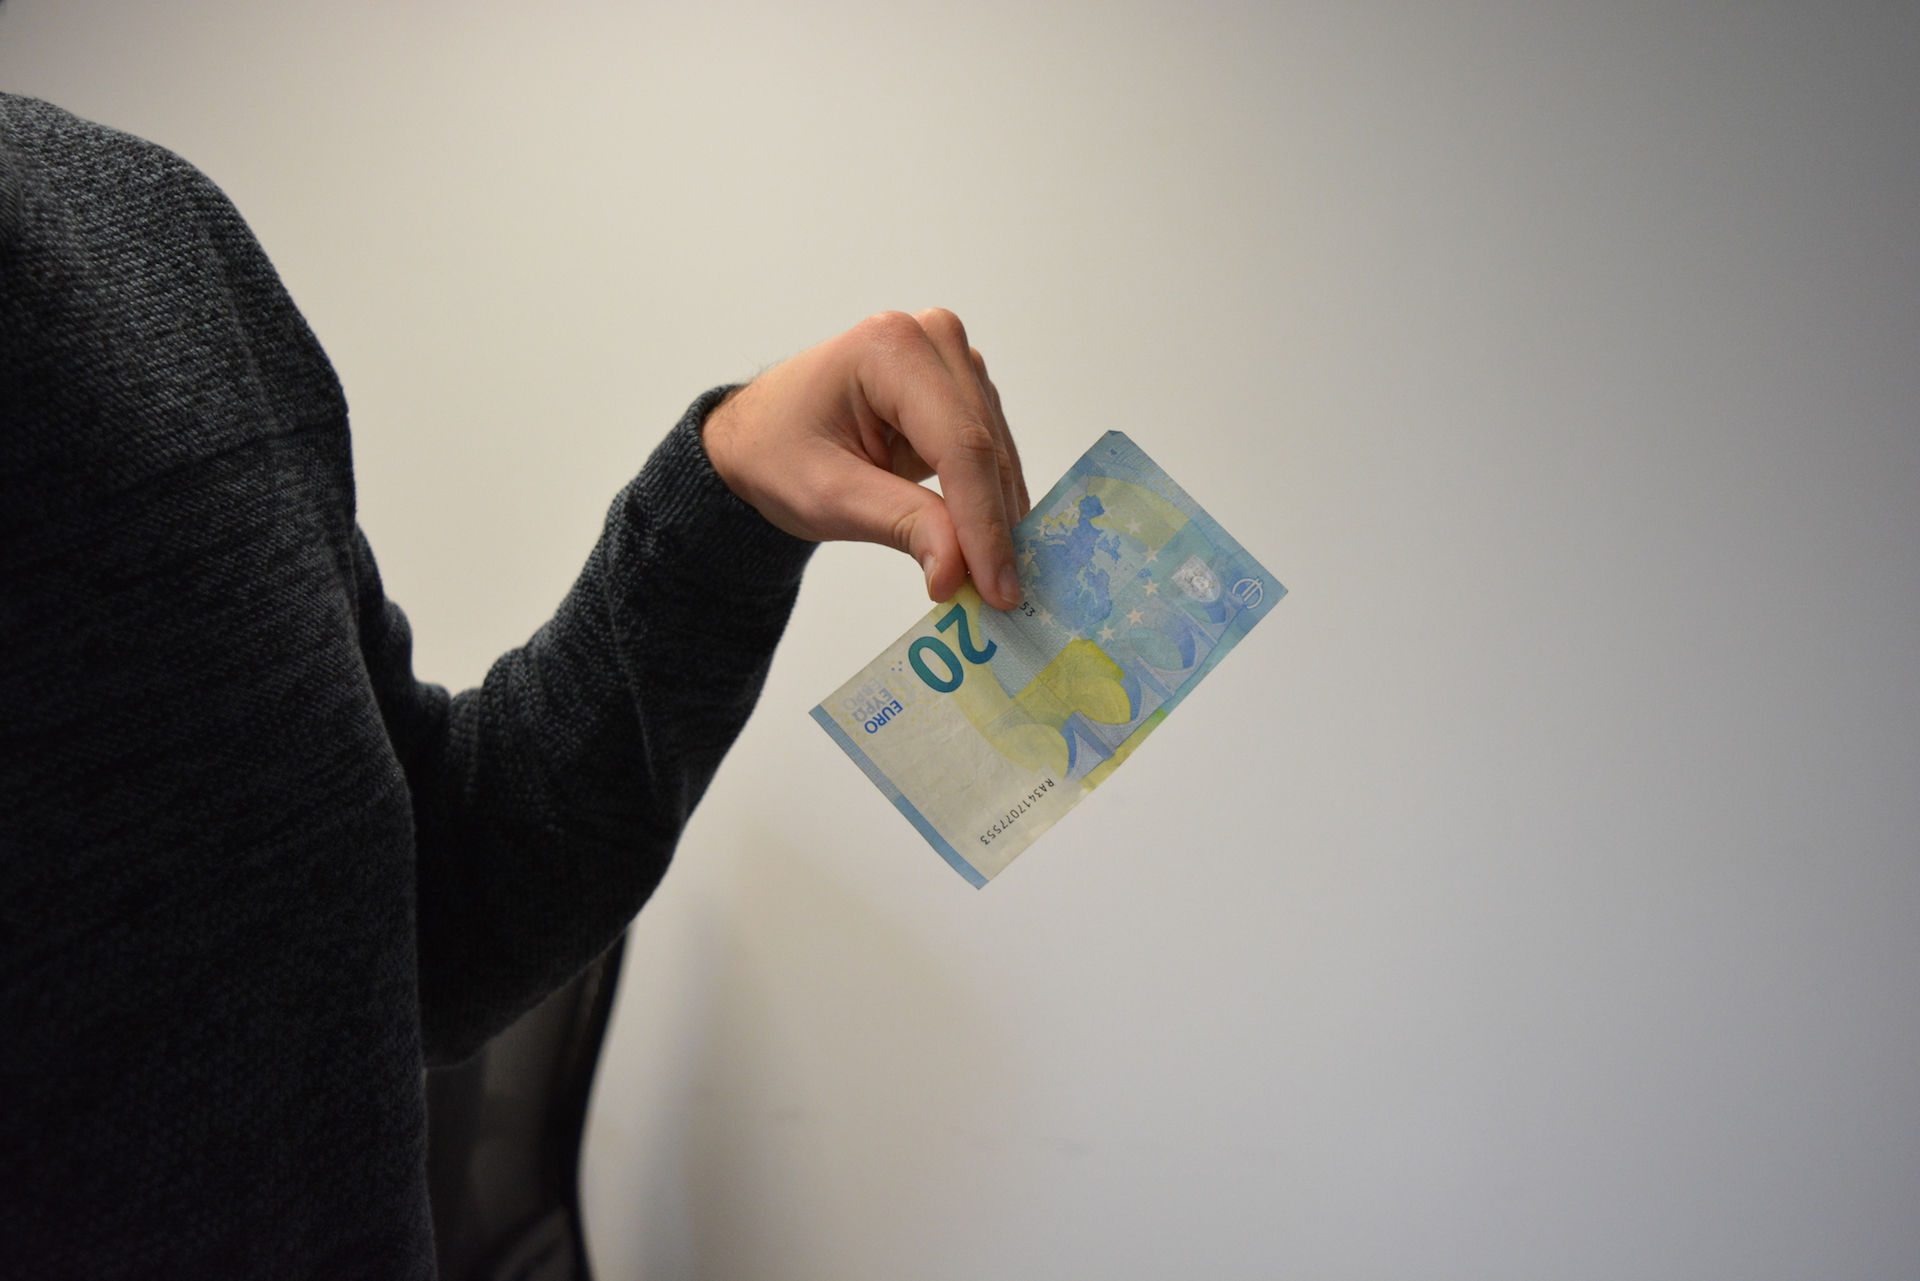billete: (805, 427, 1292, 891)
